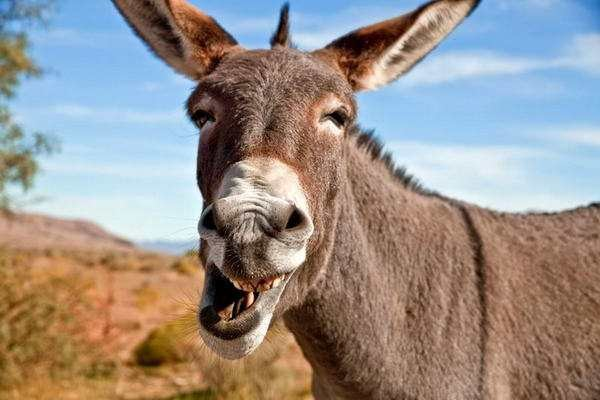background: (139, 37, 468, 358)
